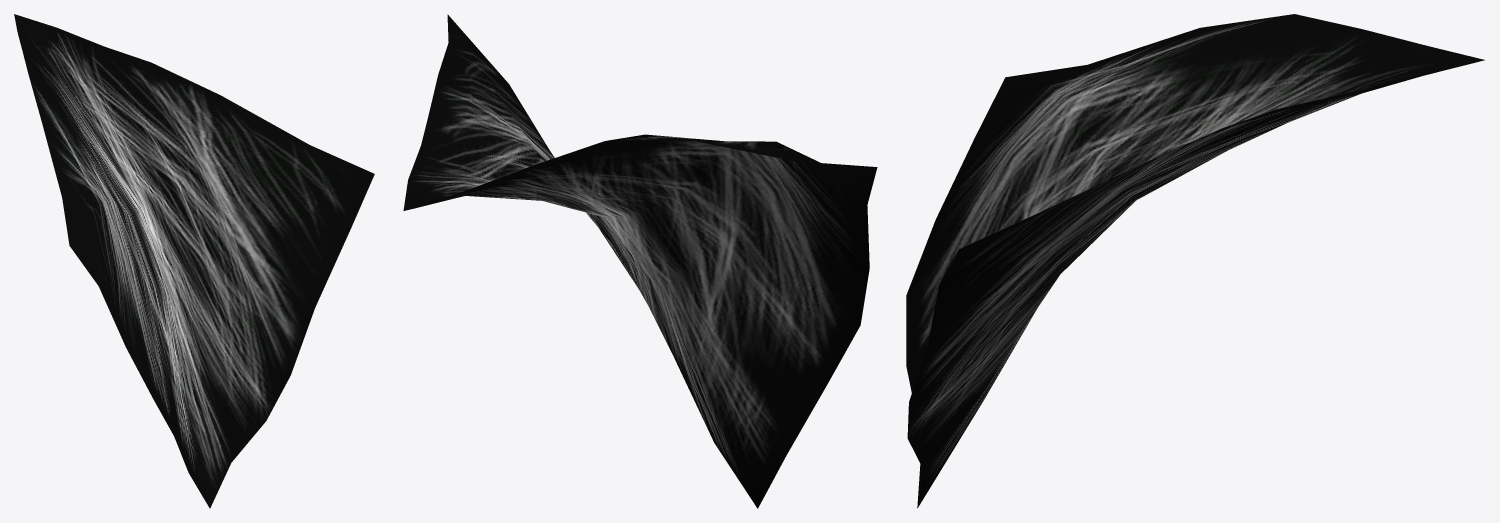
Rendered from SWORDLIGHT20_PS-AREA01_CORNERWEB17.fbx.
3 views of the same model, side by side, from view 1: azimuth 30°, elevation 25°; view 2: azimuth 150°, elevation 25°; view 3: azimuth 270°, elevation 25° (orthographic). The views are drawn at different scales.
Parts seen in each view (by area): view 1: SWORDLIGHT20_PS-AREA01_CORNERWEB17; view 2: SWORDLIGHT20_PS-AREA01_CORNERWEB17; view 3: SWORDLIGHT20_PS-AREA01_CORNERWEB17.
Part boxes in pixels (left/top/right/bottom): SWORDLIGHT20_PS-AREA01_CORNERWEB17: left=14, top=14, right=374, bottom=508; SWORDLIGHT20_PS-AREA01_CORNERWEB17: left=403, top=14, right=877, bottom=508; SWORDLIGHT20_PS-AREA01_CORNERWEB17: left=906, top=14, right=1484, bottom=508.
Bounding box in the file's own units: 54313 × 62001 × 69746.
1 material, 1 textured.
